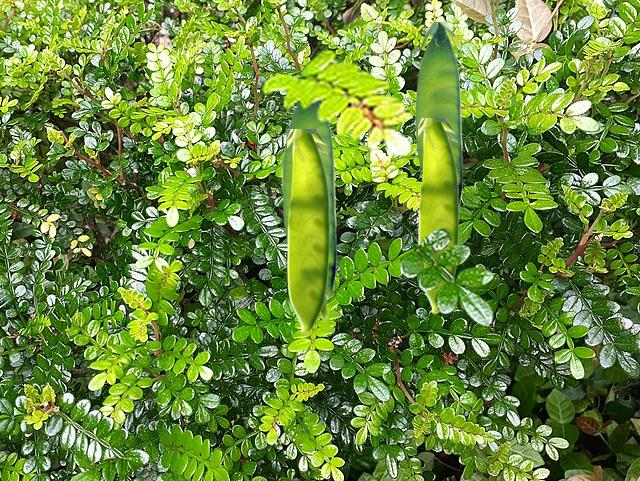pea: (282, 102, 335, 298), (280, 128, 329, 322), (415, 22, 461, 211), (287, 129, 329, 333), (418, 118, 458, 313)
